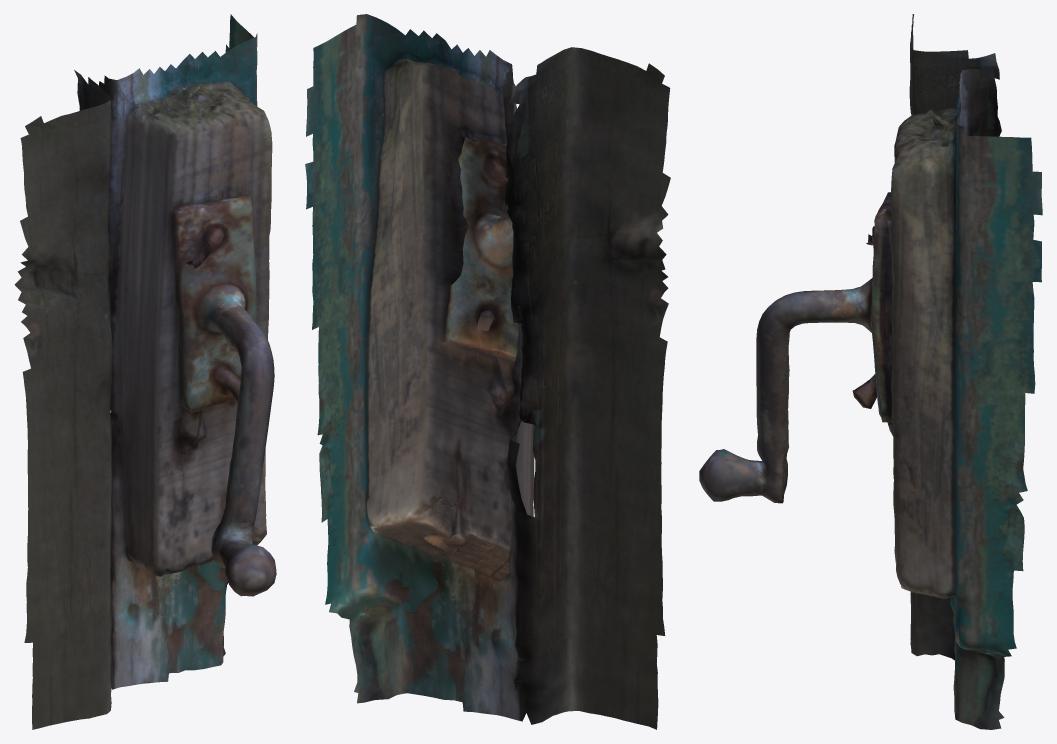
The model's file is lt2_pestillo_viejo.glb.
3 views of the same model, side by side, from view 1: azimuth 30°, elevation 25°; view 2: azimuth 150°, elevation 25°; view 3: azimuth 270°, elevation 25° (orthographic). The views are drawn at different scales.
Parts seen in each view (by area): view 1: zavorLow; view 2: zavorLow; view 3: zavorLow.
Part boxes in pixels (bbox=[...]): zavorLow: bbox=[14, 14, 276, 729]; zavorLow: bbox=[305, 14, 670, 729]; zavorLow: bbox=[699, 14, 1042, 729].
Size of the model in its own units: 0.9186 by 2 by 1.01.
Materials: 1 (1 with a texture image).
